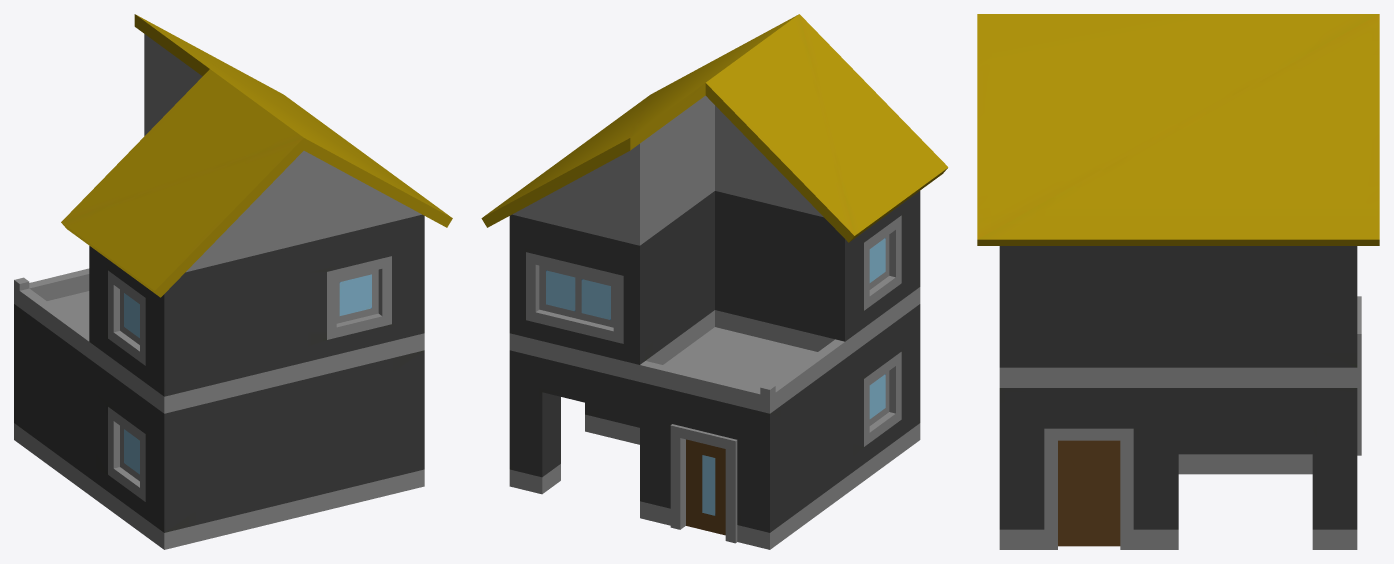
File: house_type16.fbx
3 views of the same model, side by side, from view 1: azimuth 30°, elevation 25°; view 2: azimuth 150°, elevation 25°; view 3: azimuth 270°, elevation 25° (orthographic). The views are drawn at different scales.
Visible parts, largest first — view 1: house_type16; view 2: house_type16; view 3: house_type16.
Part boxes in pixels (box(x1,y1,x2,y2)): house_type16: box(14, 14, 452, 549); house_type16: box(481, 14, 948, 549); house_type16: box(977, 14, 1379, 549).
Size of the model in its own units: 9.16 by 11.38 by 9.
1 material, 1 textured.
